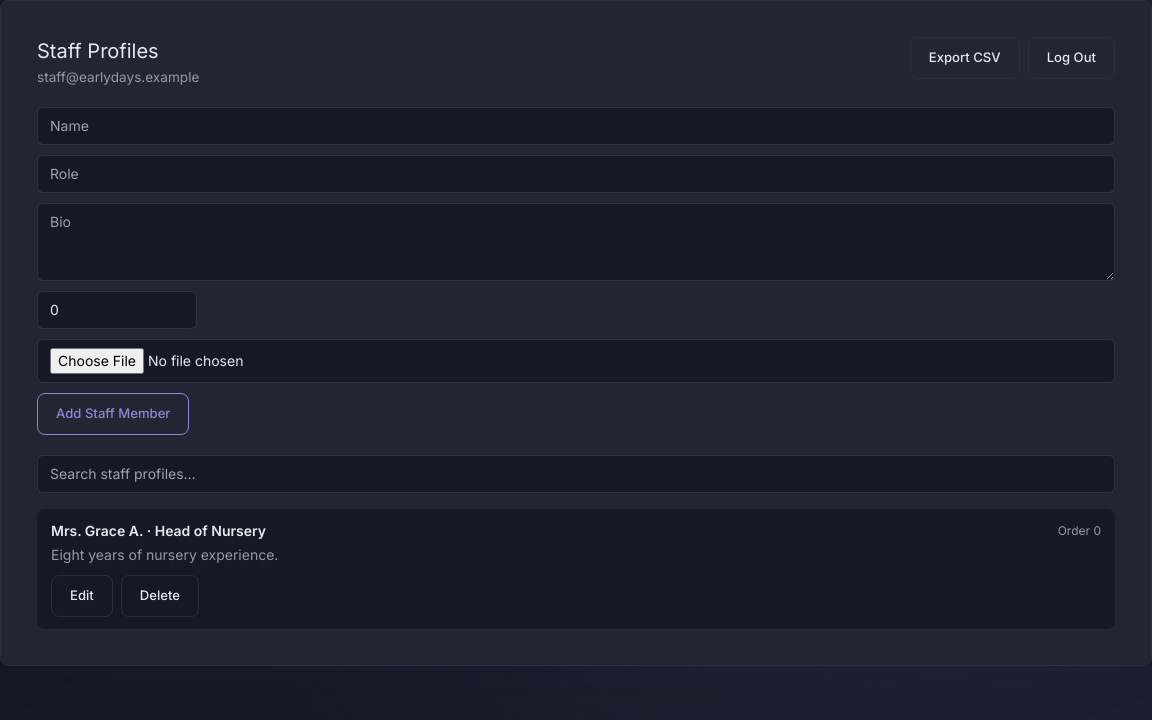
Test: AdminStaffPanel › deletes a staff member via the delete button
Expected: the text "Mrs. Grace A. · Head of Nursery" is shown, [51,521,266,541]
Click the button "Delete". click: [160, 596]
box: [121,575,199,617]
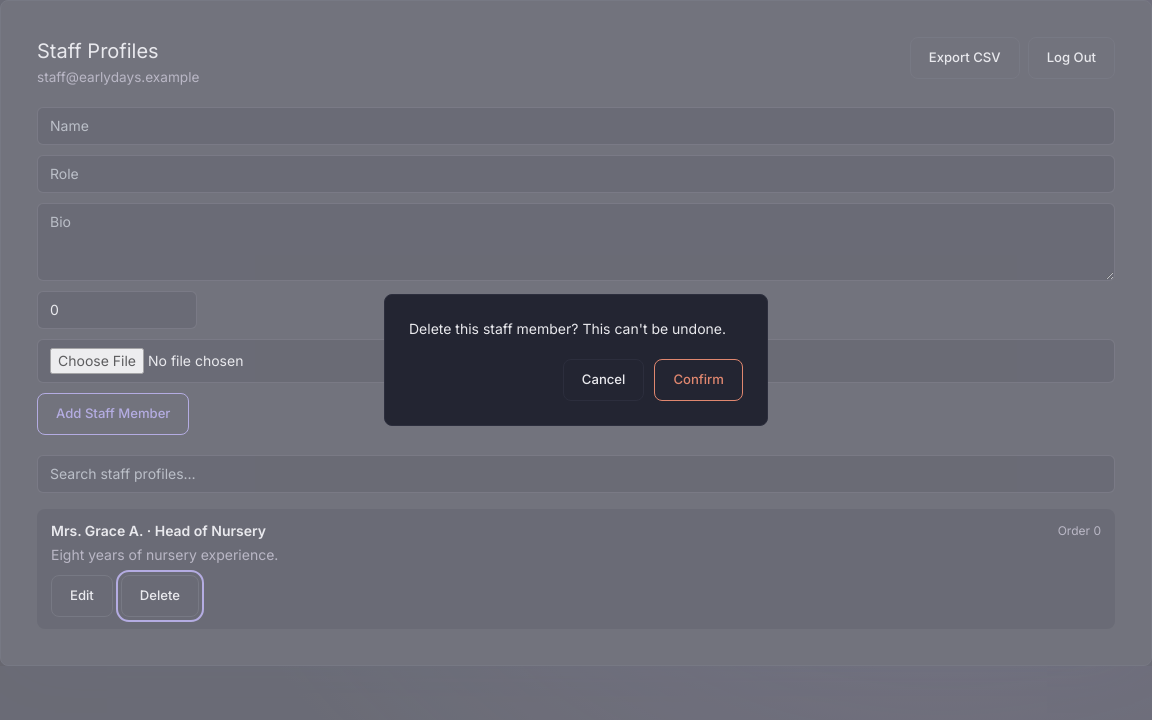
Click the button "Confirm". click: [699, 380]
box: [654,359,743,401]
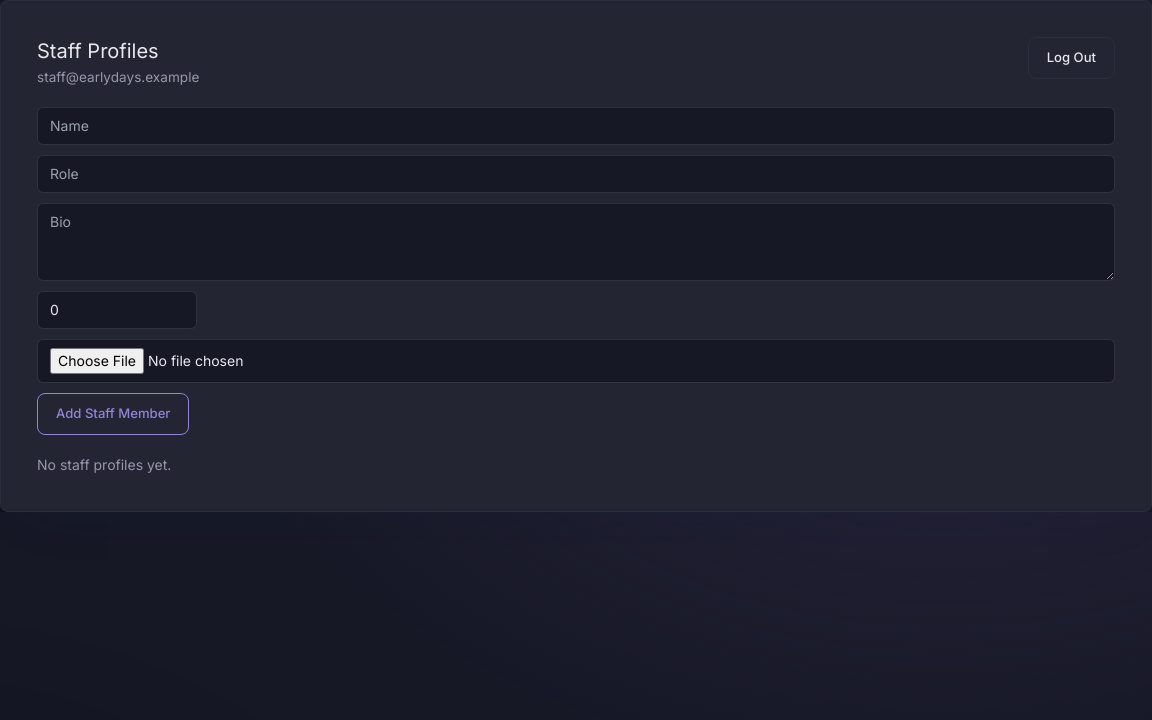
Expected: the text "Mrs. Grace A. · Head of Nursery" is gone
